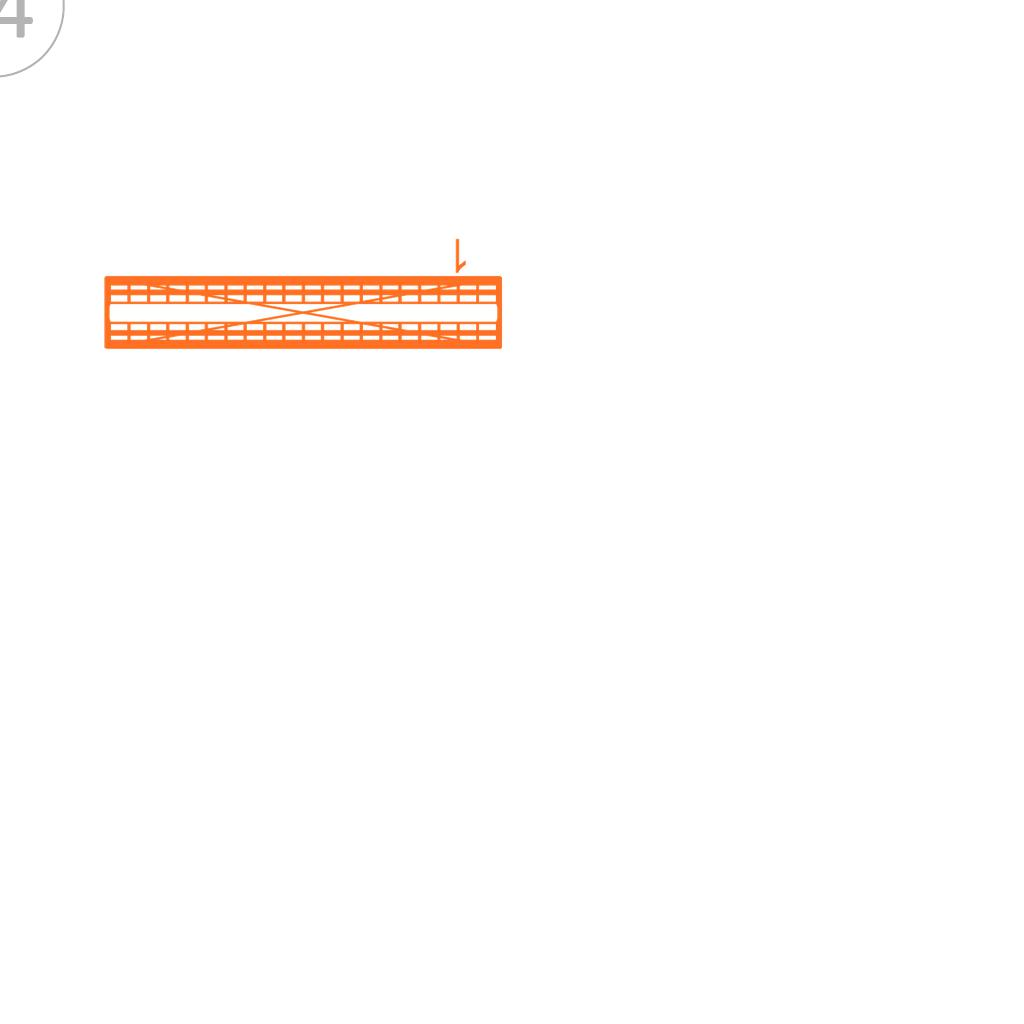Buero_Pendelleuchten_LED: (96, 229, 509, 359)
